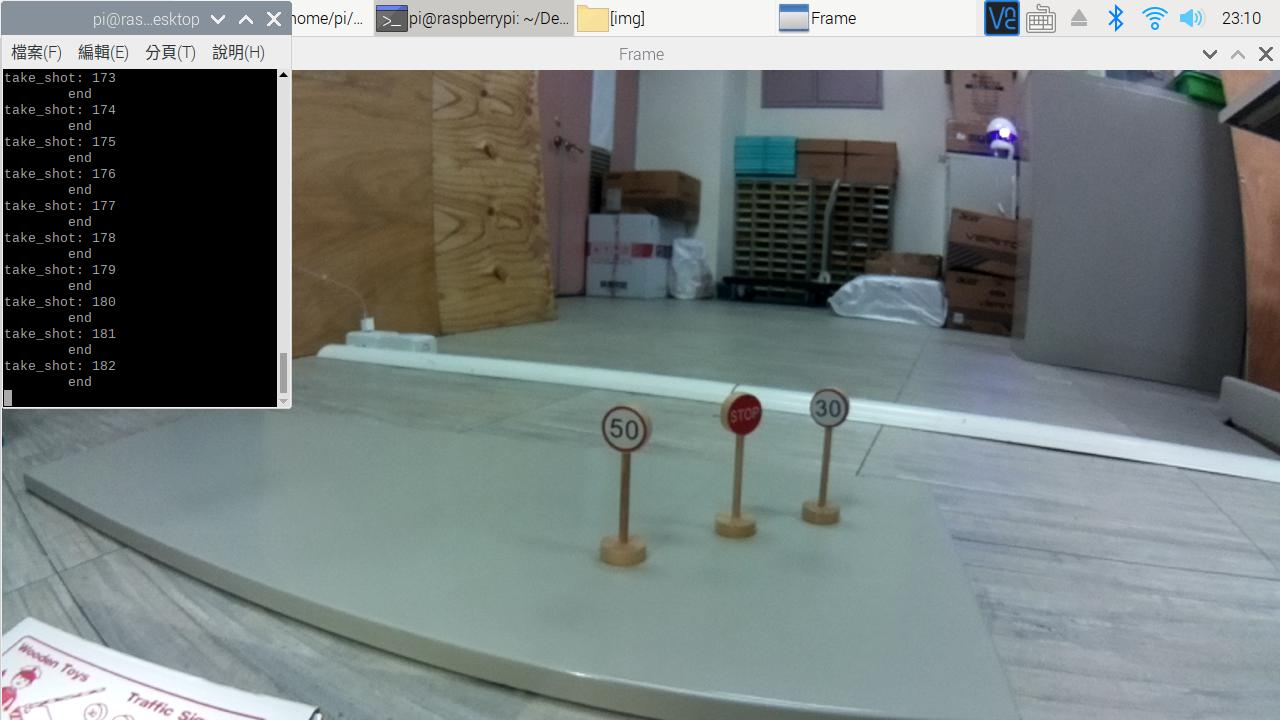Speed30: (801, 386, 860, 434)
Speed50: (594, 396, 653, 460)
Stop: (716, 386, 768, 440)
